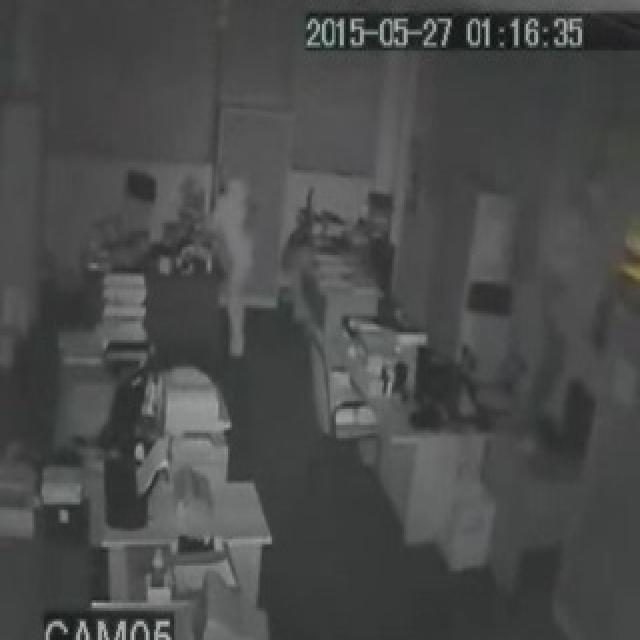thief: (206, 171, 262, 317)
